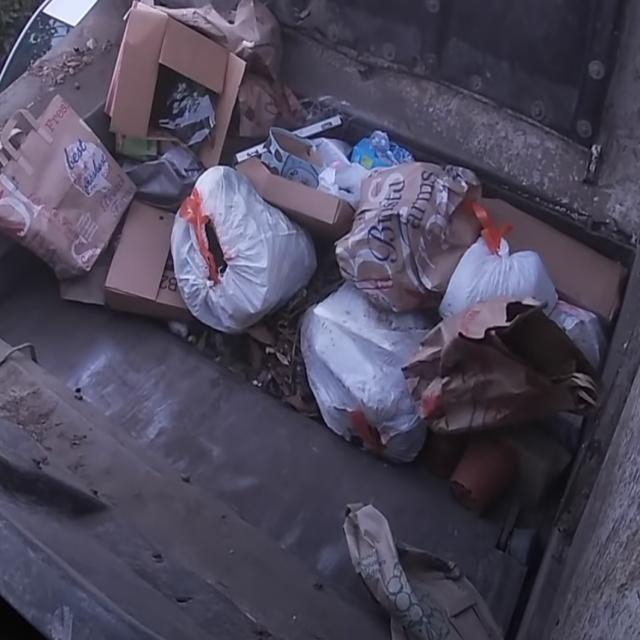bag: (164, 163, 333, 353), (296, 269, 429, 461)
cardboard: (0, 0, 179, 337), (458, 189, 632, 308)
paper: (408, 286, 610, 453), (322, 159, 518, 329), (327, 480, 516, 640), (258, 103, 397, 196)
